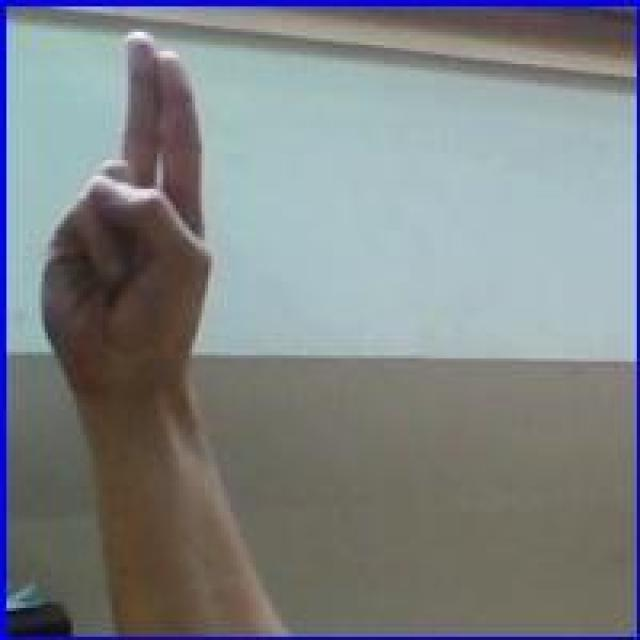U: (37, 21, 219, 379)
